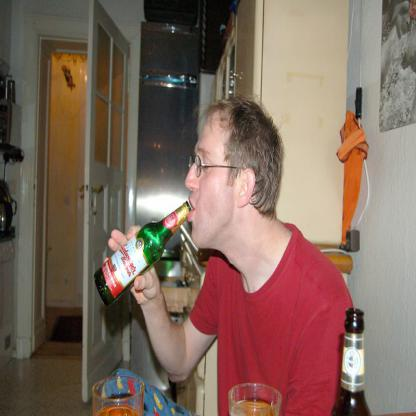drinking: (94, 201, 190, 308), (331, 308, 372, 415)
